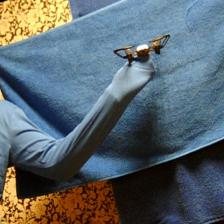drone: (113, 34, 170, 65)
